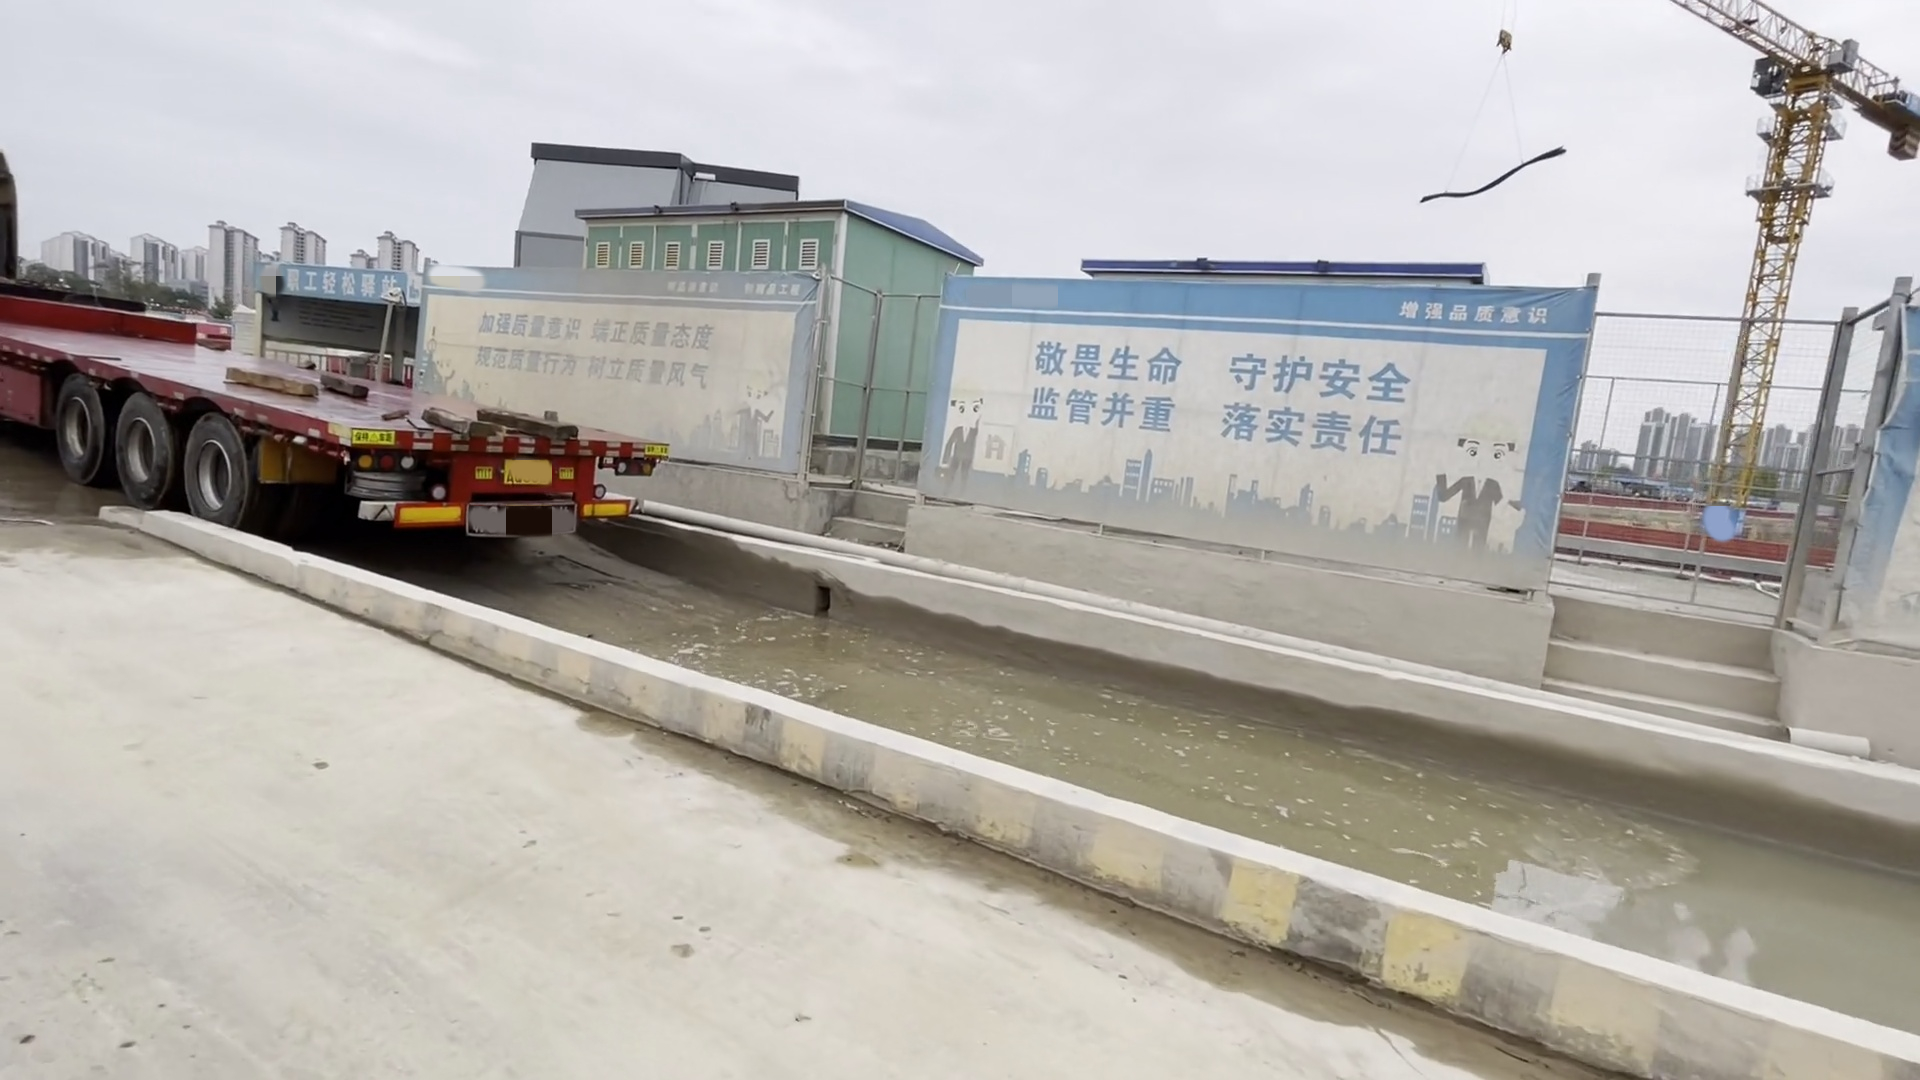hook: (1481, 18, 1526, 65)
slogan: (1000, 328, 1432, 500), (467, 301, 741, 400), (1393, 301, 1555, 345), (663, 276, 804, 309)
